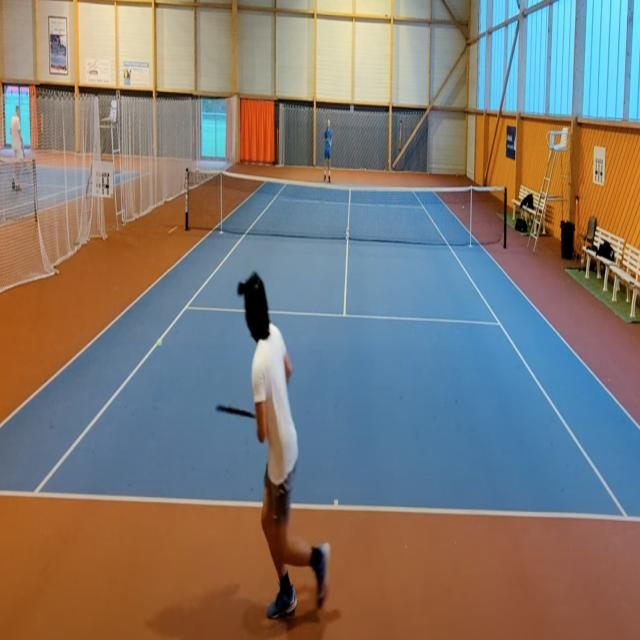ball: (156, 335, 163, 351), (462, 204, 465, 210), (456, 173, 458, 178)
